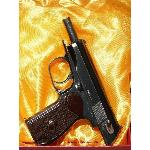Pistol: (26, 17, 122, 146)
